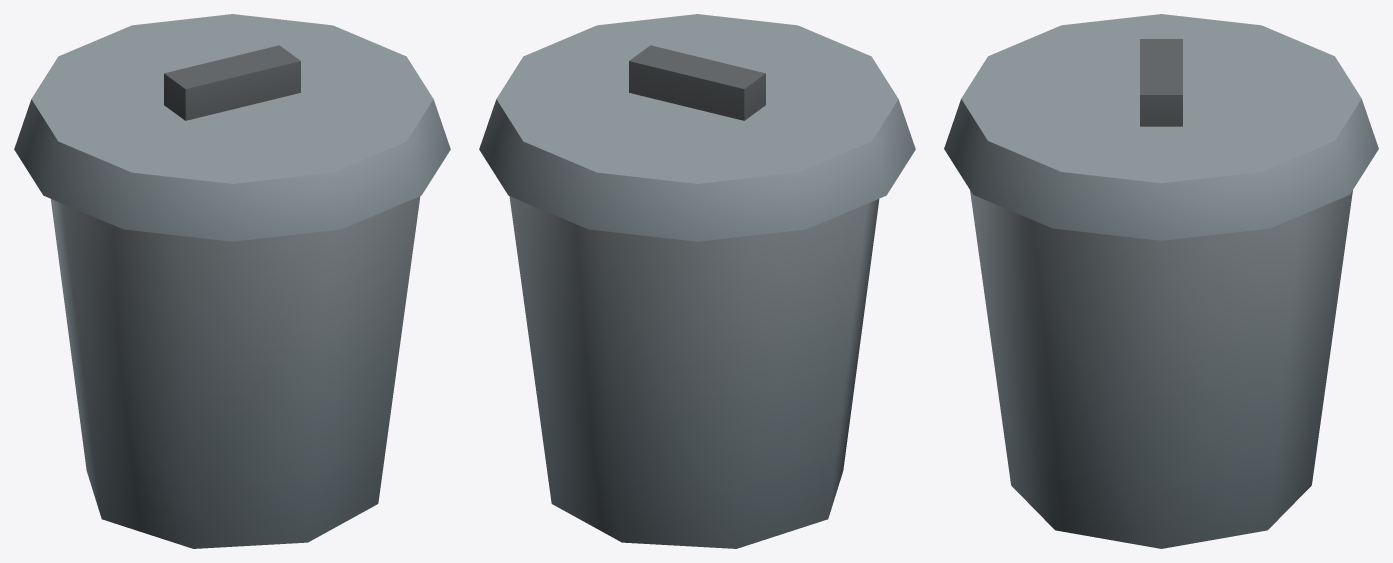
Rendered from Trash_Can_08.glb.
The picture shows the model from 3 angles, left to right: view 1: azimuth 30°, elevation 25°; view 2: azimuth 150°, elevation 25°; view 3: azimuth 270°, elevation 25°; orthographic projection.
Parts seen in each view (by area): view 1: Trash_Can_08; view 2: Trash_Can_08; view 3: Trash_Can_08.
Part boxes in pixels (bbox=[...]): Trash_Can_08: bbox=[14, 14, 450, 548]; Trash_Can_08: bbox=[479, 14, 915, 548]; Trash_Can_08: bbox=[944, 14, 1378, 548].
Bounding box in the file's own units: 1.14 × 1.21 × 1.14.
1 material, 1 textured.
